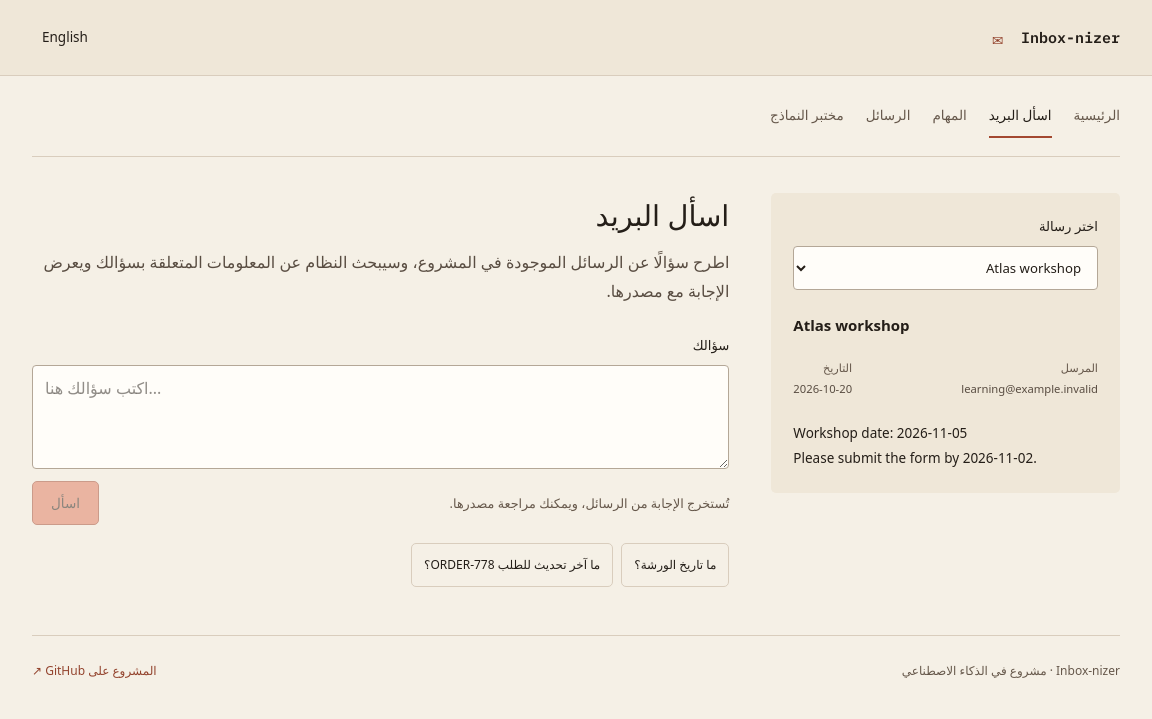
Test: insufficient evidence is localized without presenting retrieval as an answer
Click the button with aria-label "Switch to English". click: (65, 37)
box: [32,15,98,59]
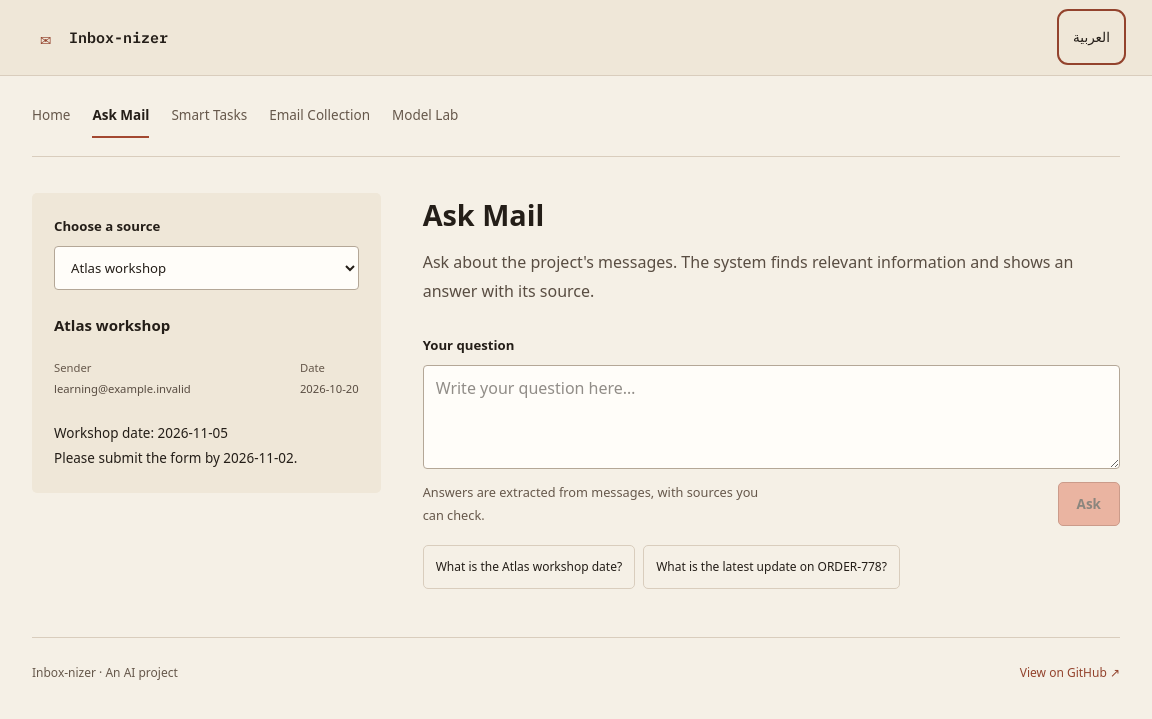
Check: the dropdown labelled "Choose a source" is shown, box [54,246,359,290]
Type "Unknown question" into the text box labelled "Your question". click: (771, 417)
box: [423,364,1120,469]
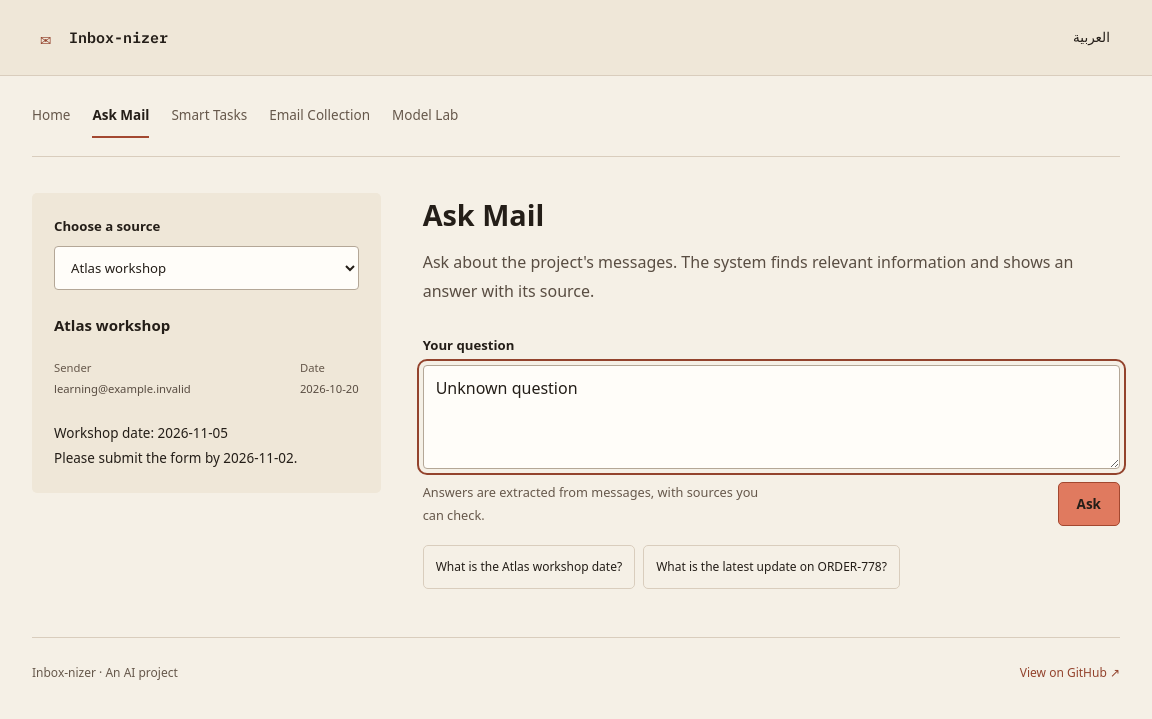
Click the button "Ask". click: (1089, 504)
box: [1058,482,1120,526]
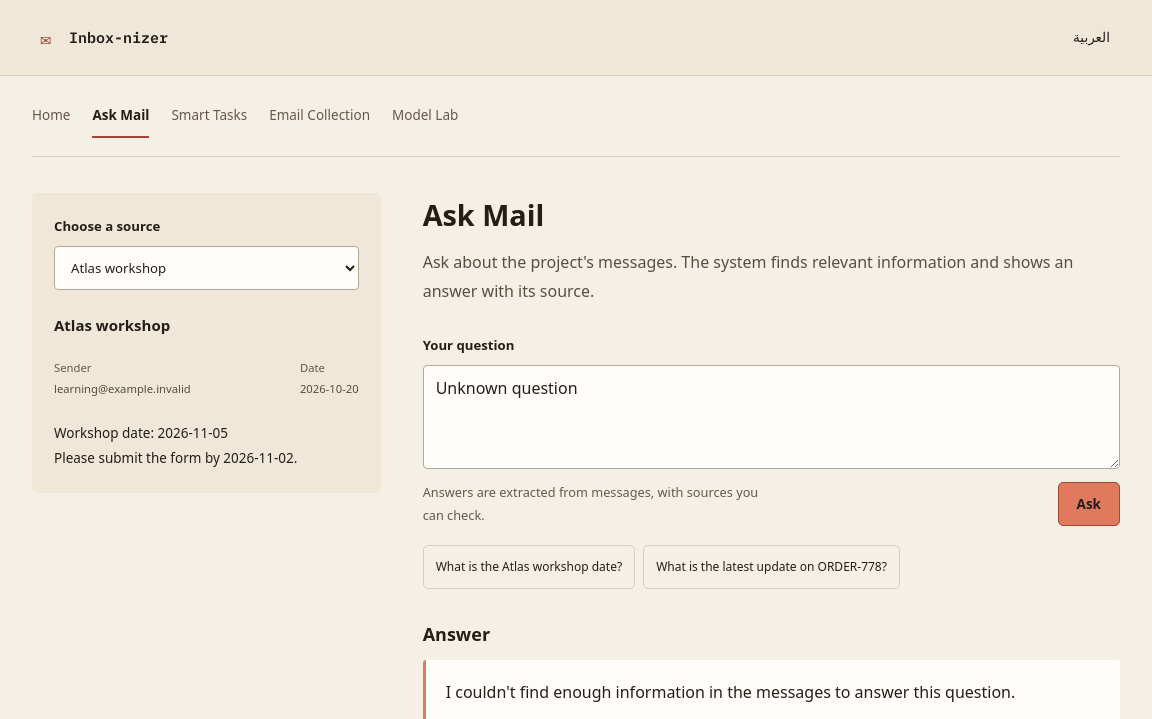
Check: the text "couldn't find enough information" is shown, box [446,681,1015,703]
Click the button with aria-label "التبديل للعربية". click: (1092, 37)
box: [1063,15,1120,59]
(page scrolled)
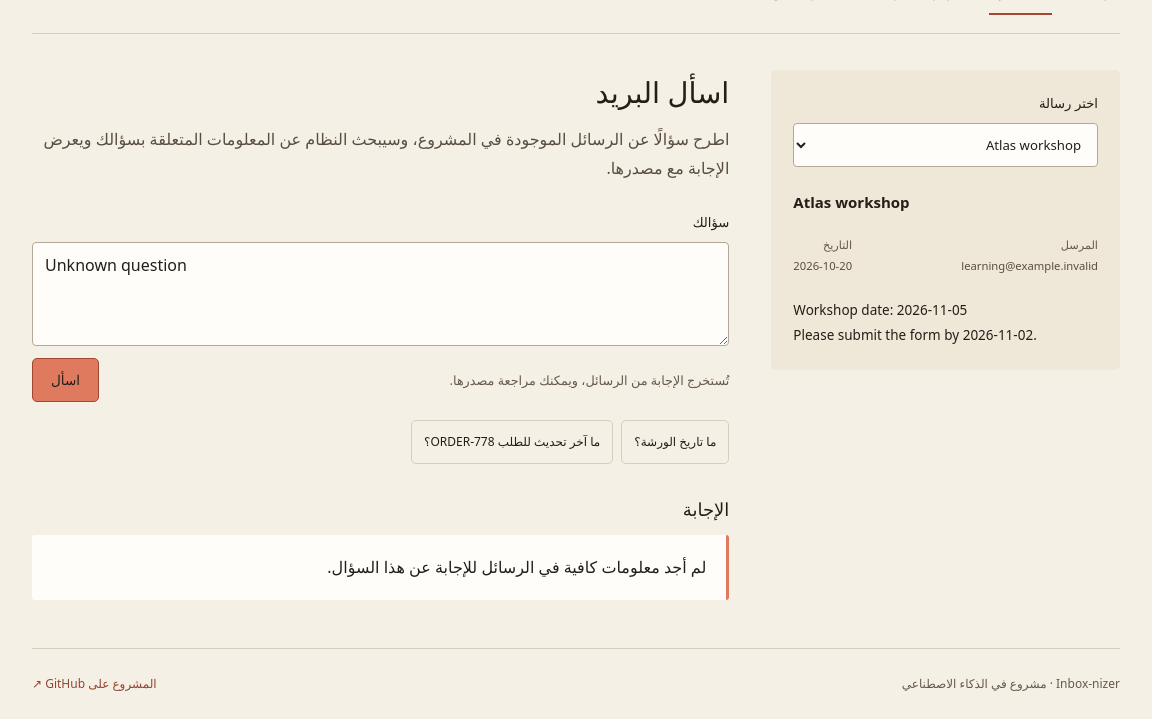
Check: the text "لم أجد معلومات كافية في الرسائل للإجابة عن هذا السؤال." is shown, box [32,535,729,600]
